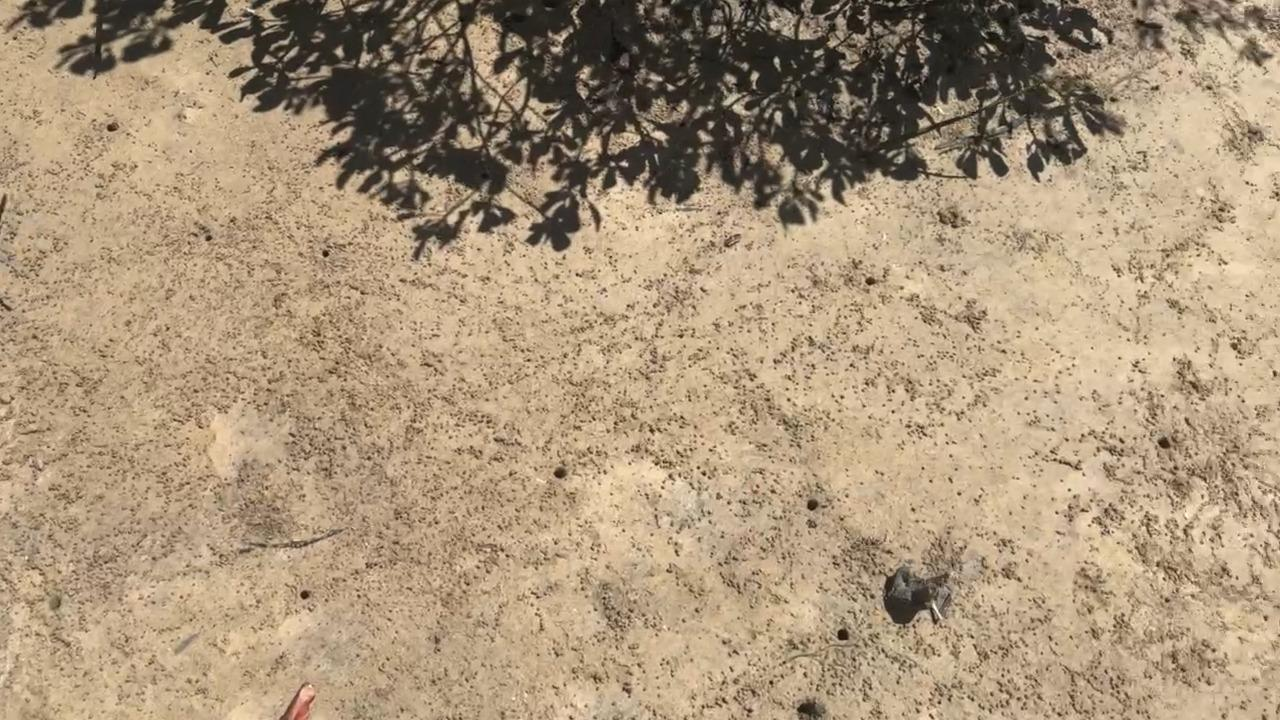Tree: (290, 526, 344, 545)
